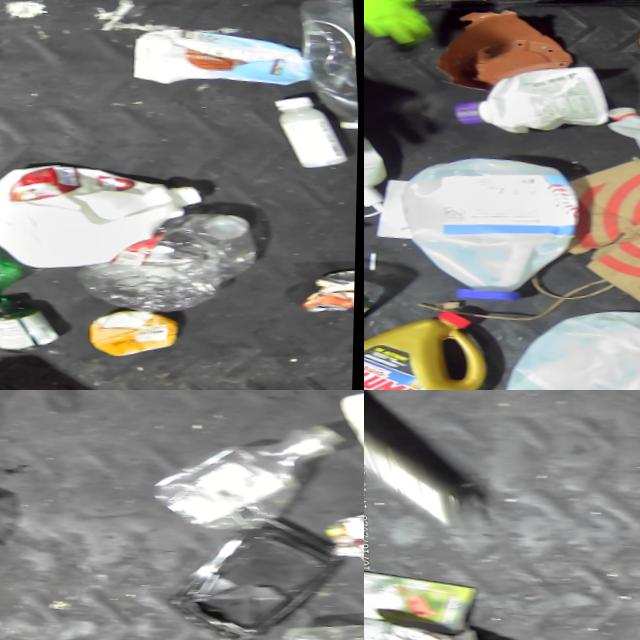can: (299, 251, 357, 311), (336, 493, 364, 566)
milk_jug: (398, 142, 583, 312), (0, 149, 206, 275), (449, 51, 615, 143), (490, 297, 640, 390), (600, 96, 640, 175)
non_white_jug: (364, 296, 500, 390)
plastic_bottle: (150, 403, 352, 529), (77, 195, 253, 315), (298, 0, 361, 128)
